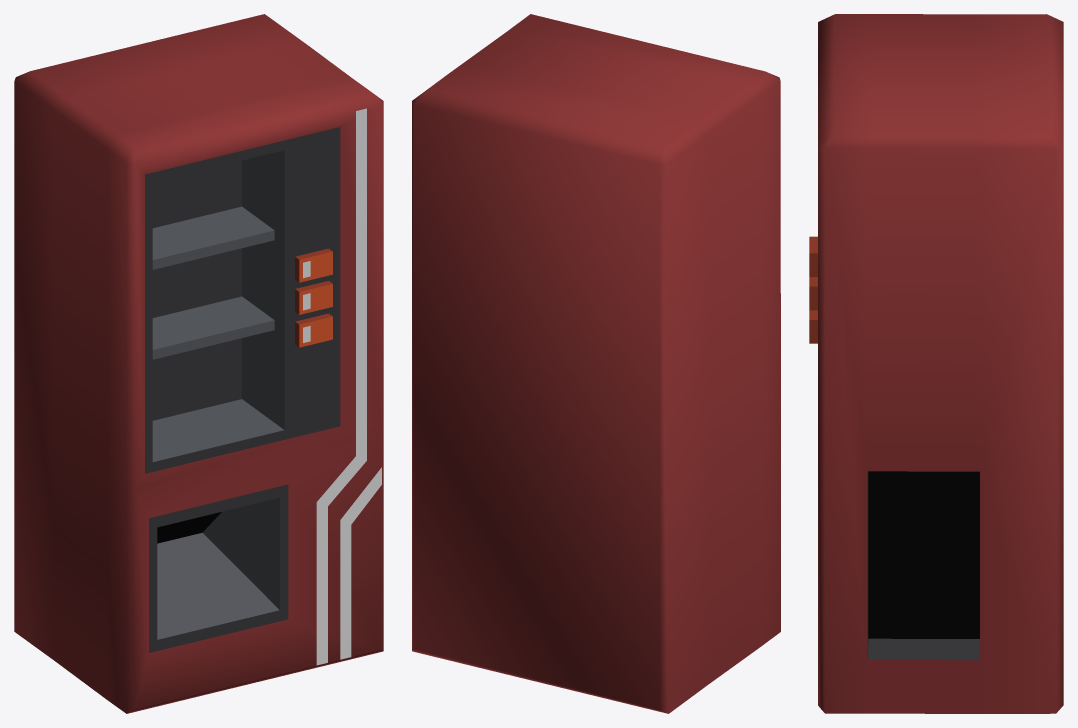
File: Getmore.glb
3 renders of one model, left to right at view 1: azimuth 30°, elevation 25°; view 2: azimuth 150°, elevation 25°; view 3: azimuth 270°, elevation 25°, orthographic. The views are drawn at different scales.
Visible parts, largest first — view 1: Getmore; view 2: Getmore; view 3: Getmore.
Boxes of the visible parts, x1,y1,x2,y2 form: Getmore: (14, 14, 383, 713); Getmore: (412, 14, 780, 713); Getmore: (809, 14, 1063, 713).
Size of the model in its own units: 0.8823 by 1.84 by 0.736.
Materials: 2 (1 with a texture image).
